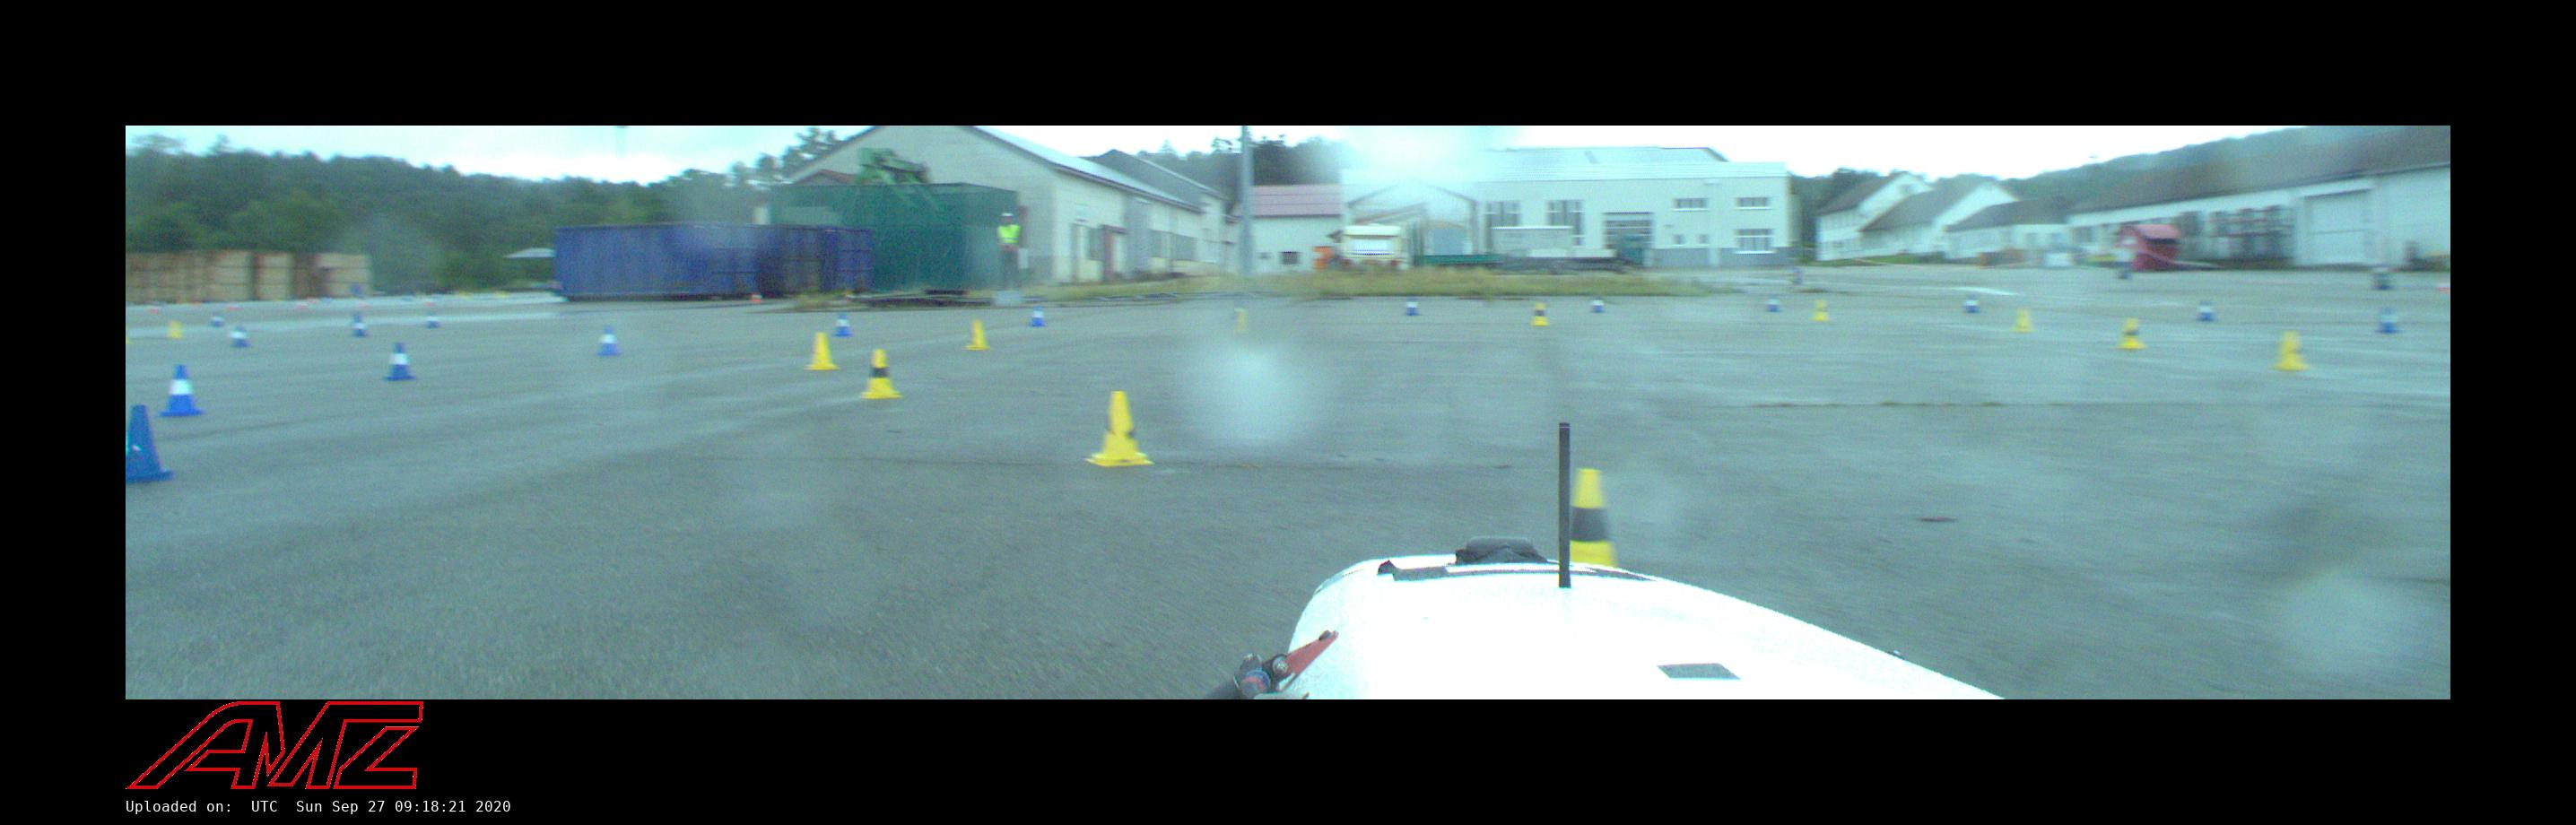blue_cone: (125, 406, 172, 483), (158, 366, 202, 417), (384, 343, 414, 380), (595, 325, 621, 355), (2376, 309, 2403, 334), (833, 312, 853, 335), (348, 314, 366, 337), (230, 325, 248, 347), (2198, 301, 2216, 320), (1028, 306, 1045, 327), (1965, 296, 1983, 312), (1406, 296, 1419, 316), (1590, 296, 1605, 312), (1768, 296, 1781, 311), (210, 311, 223, 325), (425, 312, 437, 329)
orange_cone: (2438, 279, 2449, 293), (358, 299, 368, 309), (154, 302, 163, 314), (752, 293, 762, 301), (425, 297, 435, 306), (148, 301, 154, 312), (309, 296, 317, 304), (301, 299, 307, 309), (232, 301, 238, 311), (227, 301, 232, 311), (296, 299, 301, 309)
yellow_cone: (1084, 391, 1153, 465), (1572, 468, 1618, 567), (859, 348, 904, 398), (2275, 332, 2310, 370), (805, 332, 838, 370), (2119, 319, 2144, 348), (966, 319, 989, 348), (2014, 307, 2036, 332), (1529, 302, 1549, 325), (1234, 309, 1250, 334), (1814, 299, 1830, 320), (169, 320, 181, 337)
